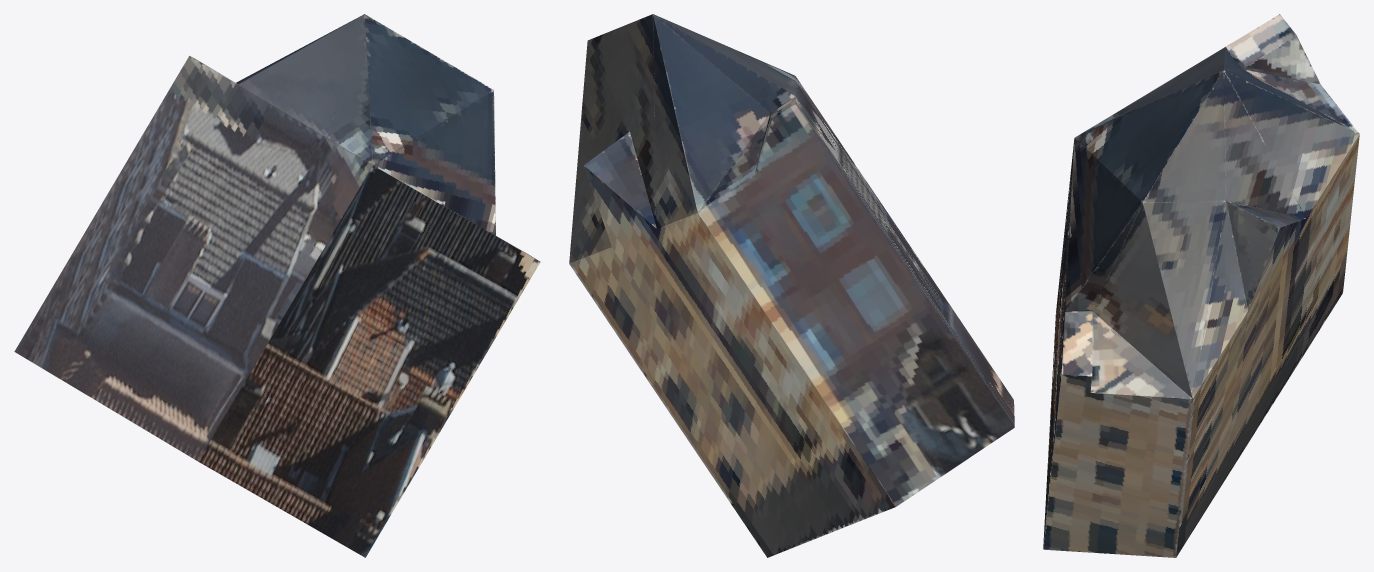
The picture shows the model from 3 angles, left to right: view 1: azimuth 30°, elevation 25°; view 2: azimuth 150°, elevation 25°; view 3: azimuth 270°, elevation 25°; orthographic projection. The views are drawn at different scales.
Visible parts, largest first — view 1: BAG_0599100000671566 (×4); view 2: BAG_0599100000671566 (×6); view 3: BAG_0599100000671566 (×6).
Boxes of the visible parts, left/top/right/bottom form: BAG_0599100000671566 (×4): left=14, top=14, right=540, bottom=557; BAG_0599100000671566 (×6): left=569, top=14, right=1014, bottom=557; BAG_0599100000671566 (×6): left=1043, top=14, right=1359, bottom=557.
Bounding box in the file's own units: 20.11 × 20.77 × 11.22.
Materials: 1 (1 with a texture image).
